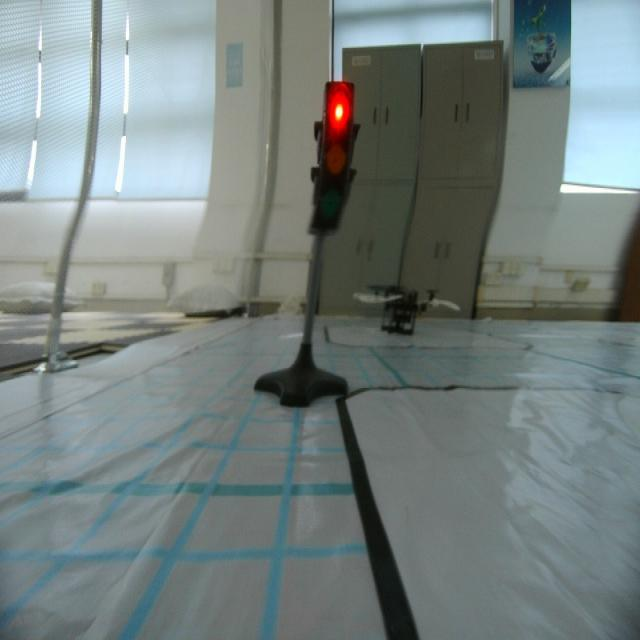red: (310, 72, 360, 245)
